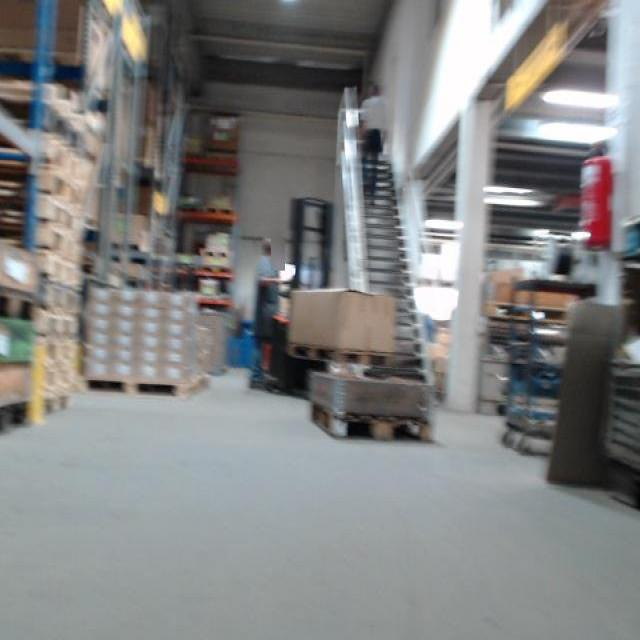pallet: (311, 401, 433, 443), (84, 372, 213, 400), (286, 339, 395, 369), (479, 299, 574, 325), (51, 178, 91, 214), (51, 150, 93, 178), (50, 235, 85, 267), (45, 315, 83, 344), (46, 286, 83, 315), (50, 214, 91, 235), (42, 370, 76, 395), (45, 344, 76, 370), (46, 267, 85, 286), (42, 395, 76, 416), (197, 247, 232, 259), (203, 204, 233, 217), (197, 264, 232, 275)
pallet_truck: (254, 188, 338, 398)
stillage: (478, 307, 559, 362)
